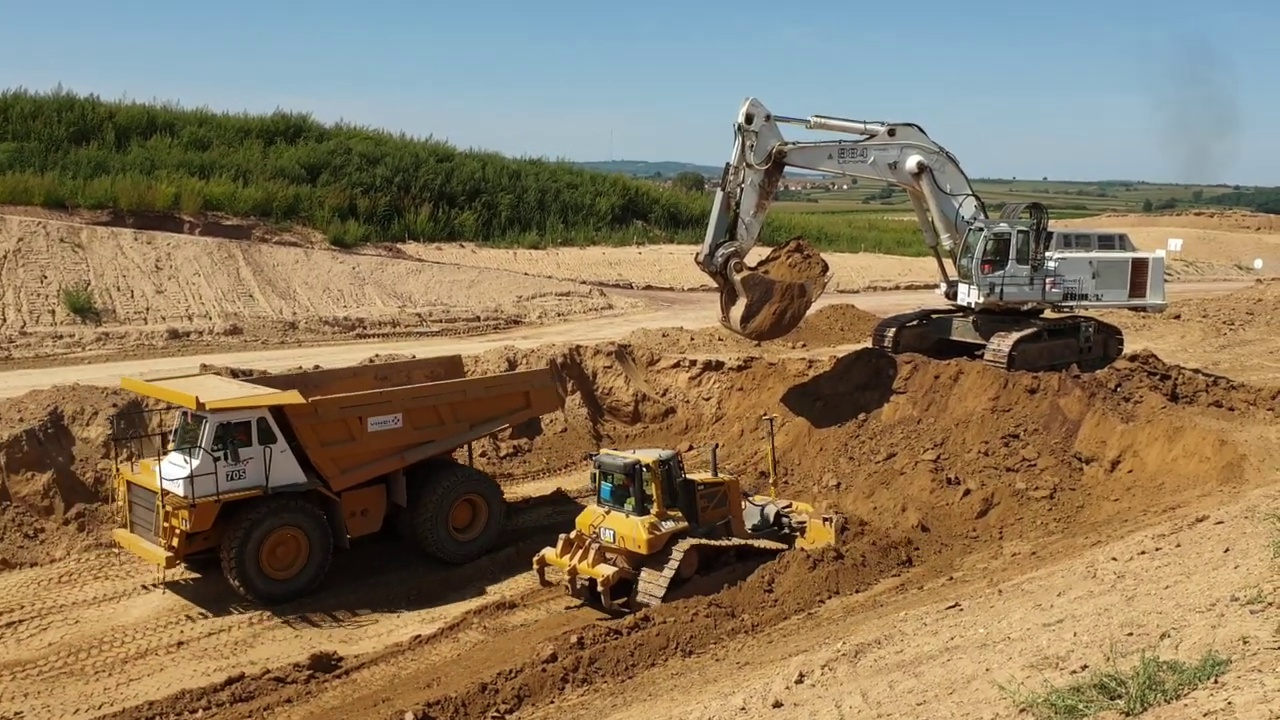bulldozer: (530, 413, 850, 613)
excavator: (692, 90, 1173, 376)
truck: (99, 351, 570, 613)
